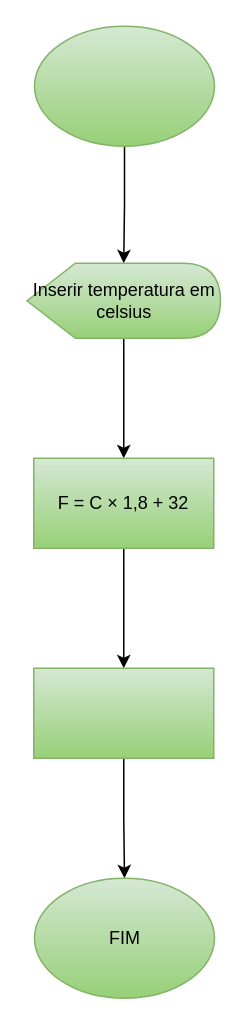
This 246x1025 diagram has some shape labels left out. The shapes that lost their labels are listed below. From the top down, each one's centre as x and y in pixels, then its label:
the point at 123,85: INICIO
the point at 123,712: Transferir em Fahrenheit
